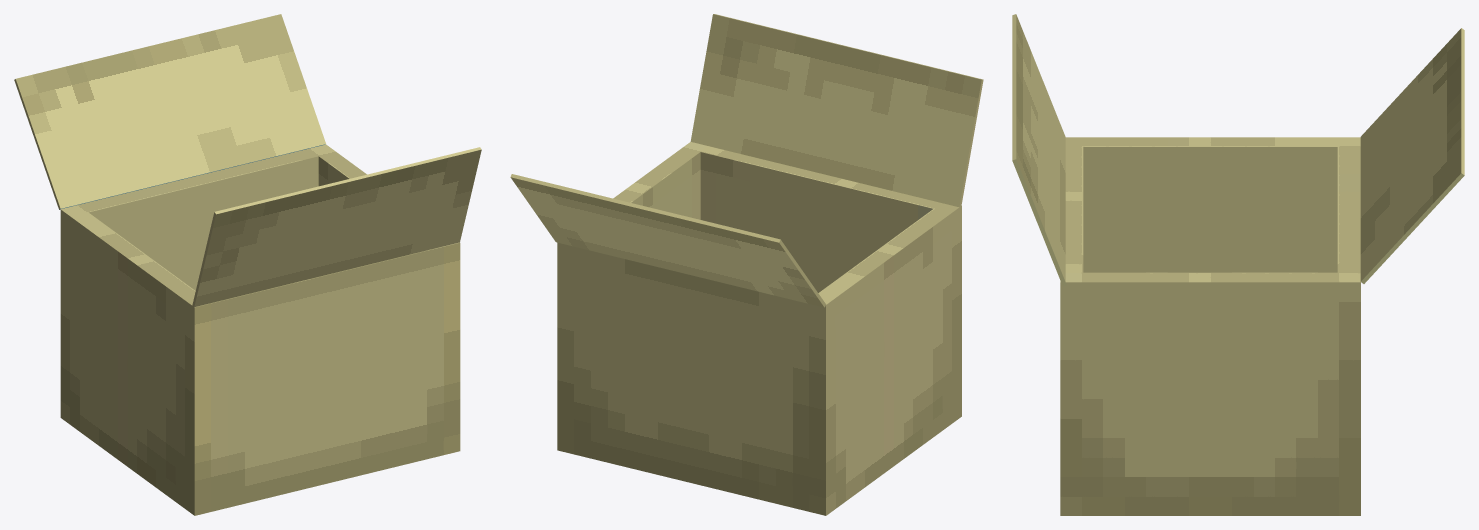
The model's file is Cardboard_box.gltf.
3 renders of one model, left to right at view 1: azimuth 30°, elevation 25°; view 2: azimuth 150°, elevation 25°; view 3: azimuth 270°, elevation 25°, orthographic. The views are drawn at different scales.
Parts seen in each view (by area): view 1: cuboid (×3); view 2: cuboid (×3); view 3: cuboid (×3).
Boxes of the visible parts, x1,y1,x2,y2 form: cuboid (×3): [14, 14, 481, 515]; cuboid (×3): [510, 14, 983, 515]; cuboid (×3): [1012, 14, 1464, 515].
Size of the model in its own units: 1 by 1.15 by 1.32.
Materials: 1 (1 with a texture image).
